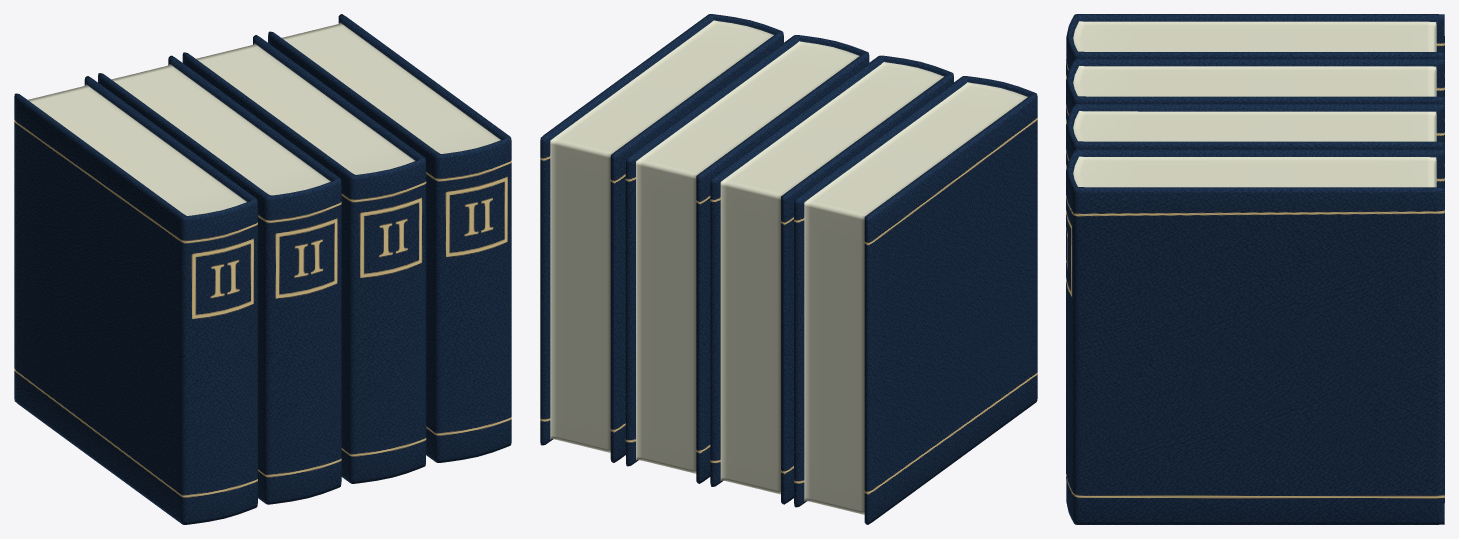
The model's file is Libro.fbx.
3 views of the same model, side by side, from view 1: azimuth 30°, elevation 25°; view 2: azimuth 150°, elevation 25°; view 3: azimuth 270°, elevation 25° (orthographic). The views are drawn at different scales.
Visible parts, largest first — view 1: book_1, book_4, book_3, book_2; view 2: book_1, book_4, book_3, book_2; view 3: book_4, book_3, book_2, book_1.
Part boxes in pixels (x1,y1,x2,y2): book_1: (14,76,257,524); book_4: (268,14,511,462); book_3: (182,35,426,483); book_2: (98,55,341,504); book_1: (794,76,1037,524); book_4: (540,14,783,462); book_3: (625,35,869,483); book_2: (710,55,953,504); book_4: (1066,149,1444,524); book_3: (1066,103,1444,194); book_2: (1066,58,1444,148); book_1: (1066,14,1444,103).
Bounding box in the file's own units: 29.22 × 26.01 × 26.55.
